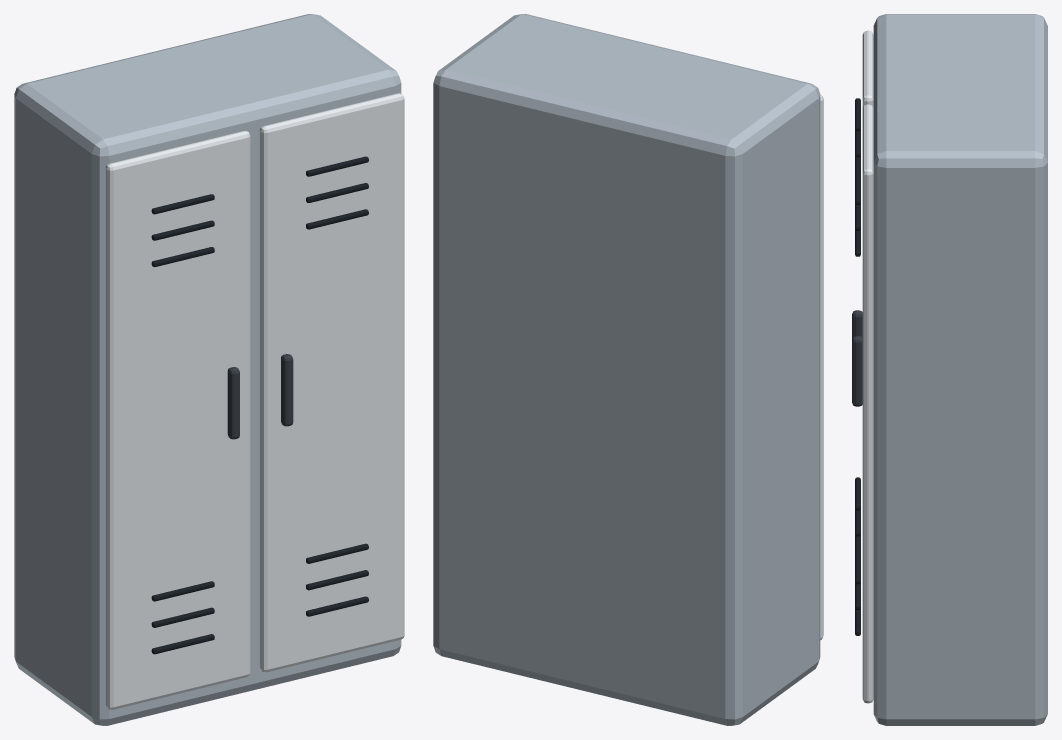
File: locker.glb
The picture shows the model from 3 angles, left to right: view 1: azimuth 30°, elevation 25°; view 2: azimuth 150°, elevation 25°; view 3: azimuth 270°, elevation 25°; orthographic projection. The views are drawn at different scales.
Parts seen in each view (by area): view 1: locker · Warm white, locker · Brushed aluminum, locker · Soft black, locker · Graphite metal; view 2: locker · Brushed aluminum, locker · Warm white; view 3: locker · Brushed aluminum, locker · Warm white, locker · Soft black, locker · Graphite metal.
Part boxes in pixels (x1,y1,x2,y2): locker · Warm white: (105,93,404,709); locker · Brushed aluminum: (14,14,401,725); locker · Soft black: (151,156,368,654); locker · Graphite metal: (227,354,293,439); locker · Brushed aluminum: (433,14,820,725); locker · Warm white: (820,94,823,640); locker · Brushed aluminum: (873,14,1047,725); locker · Warm white: (862,30,873,703); locker · Soft black: (855,98,860,635); locker · Graphite metal: (852,310,862,406).
Size of the model in its own units: 1.1 by 2 by 0.6175.
